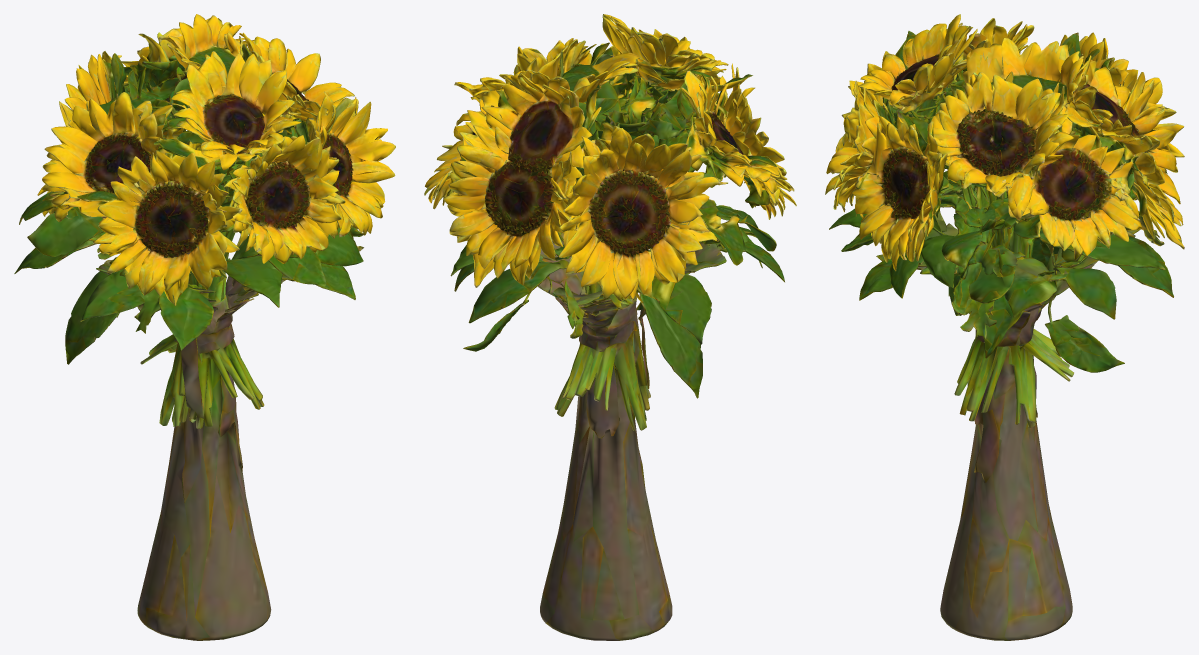
The model's file is sunflower.glb.
The picture shows the model from 3 angles, left to right: view 1: azimuth 30°, elevation 25°; view 2: azimuth 150°, elevation 25°; view 3: azimuth 270°, elevation 25°; orthographic projection.
Visible parts, largest first — view 1: output_unwrapped; view 2: output_unwrapped; view 3: output_unwrapped.
Part boxes in pixels (left/top/right/bottom): output_unwrapped: left=14, top=14, right=395, bottom=640; output_unwrapped: left=424, top=14, right=796, bottom=640; output_unwrapped: left=825, top=14, right=1184, bottom=640.
Size of the model in its own units: 0.3046 by 0.5 by 0.2792.
Materials: 1 (1 with a texture image).
